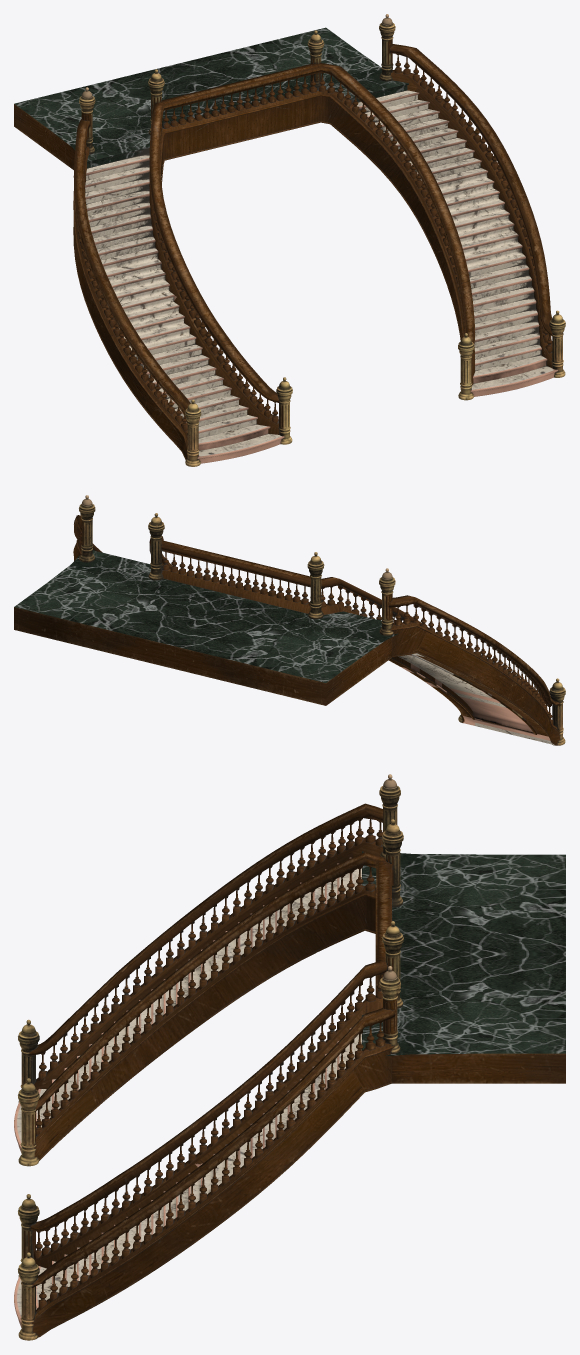
Rendered from wooden_stairs_8_mb.glb.
3 renders of one model, top to bottom at view 1: azimuth 30°, elevation 25°; view 2: azimuth 150°, elevation 25°; view 3: azimuth 270°, elevation 25°, orthographic. The views are drawn at different scales.
Visible parts, largest first — view 1: 01_01_0 (×2); view 2: 01_01_0 (×2); view 3: 01_01_0 (×2).
Part boxes in pixels (x1,y1,x2,y2): 01_01_0 (×2): (14, 14, 565, 466); 01_01_0 (×2): (14, 495, 565, 745); 01_01_0 (×2): (14, 774, 565, 1340).
Bounding box in the file's own units: 16.45 × 9.95 × 14.23.
Materials: 1 (1 with a texture image).
